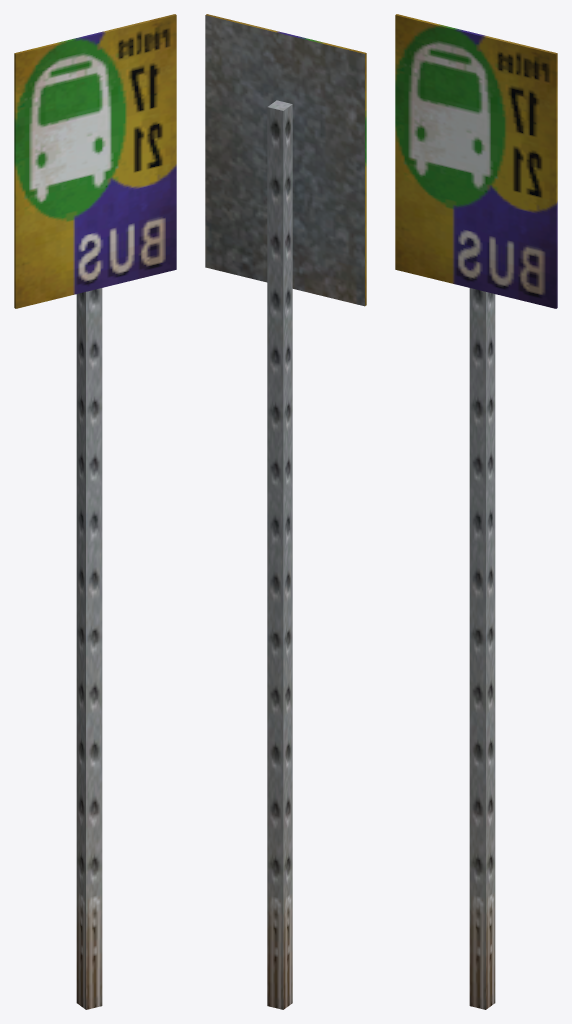
File: bus_stop.fbx
The picture shows the model from 3 angles, left to right: view 1: azimuth 30°, elevation 25°; view 2: azimuth 150°, elevation 25°; view 3: azimuth 330°, elevation 25°; orthographic projection.
Parts seen in each view (by area): view 1: mesh_0, mesh_1; view 2: mesh_0, mesh_1; view 3: mesh_0, mesh_1.
Part boxes in pixels (box(x1,y1,x2,y2)): mesh_0: box(14, 14, 176, 308); mesh_1: box(76, 288, 102, 1009); mesh_0: box(205, 14, 366, 306); mesh_1: box(267, 100, 292, 1009); mesh_0: box(395, 14, 557, 308); mesh_1: box(469, 288, 495, 1009).
Bounding box in the file's own units: 44.43 × 257 × 5.49.
Materials: 2 (2 with a texture image).
